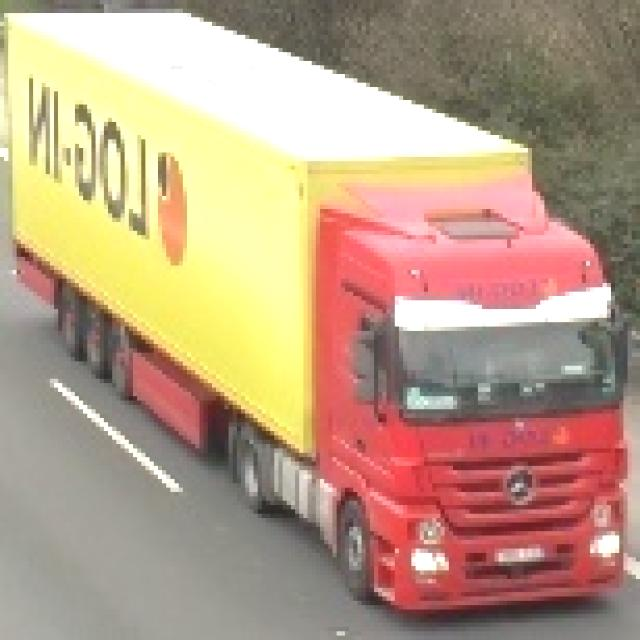TRUCK: (0, 4, 640, 618)
